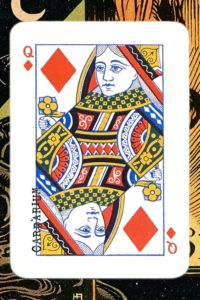queen of diamonds: (10, 22, 192, 278)
